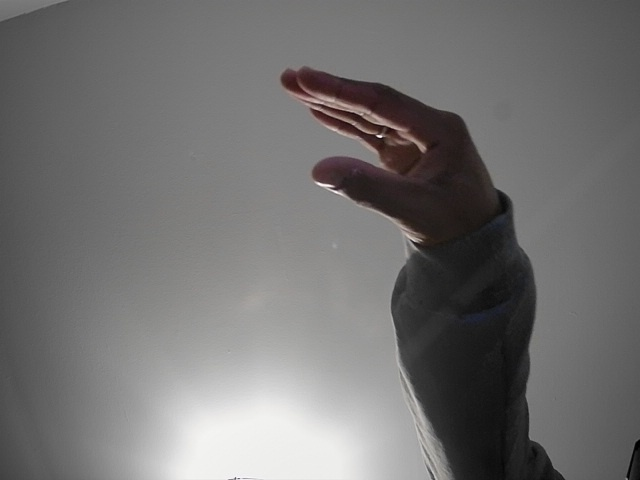No: (259, 36, 518, 267)
